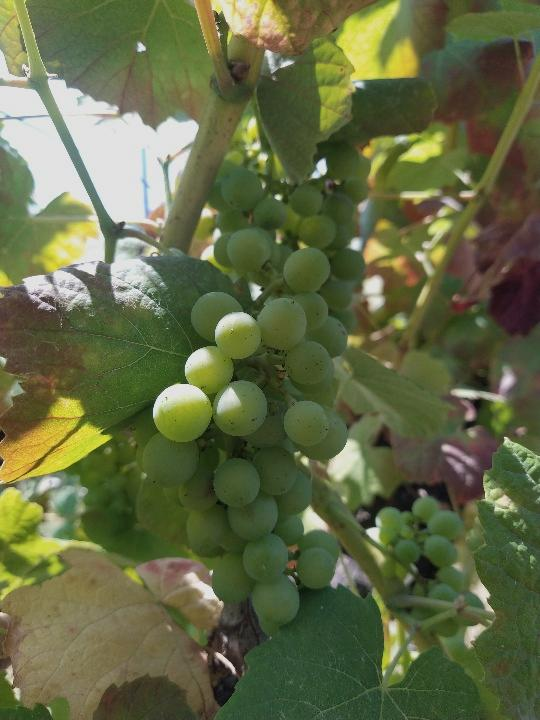grape: (131, 227, 343, 640)
